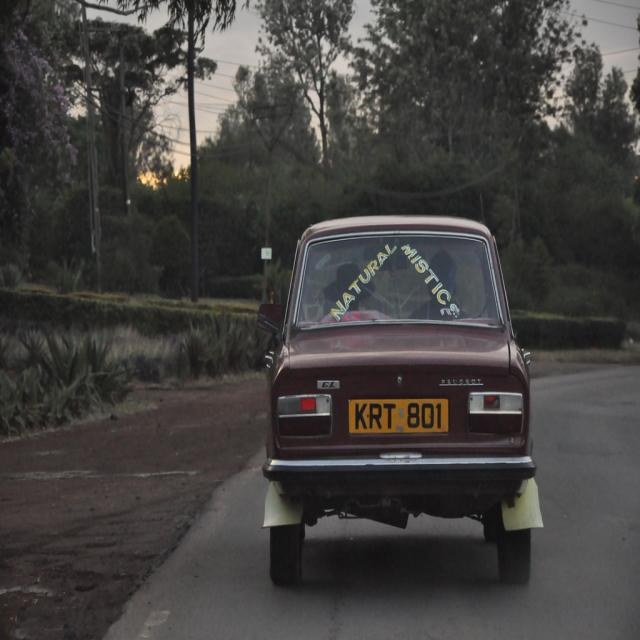car: (262, 213, 546, 585)
